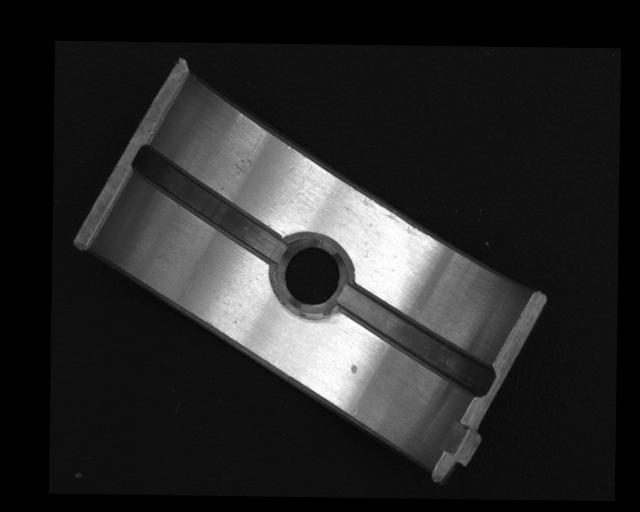bruise: (348, 364, 358, 375)
gap: (130, 146, 286, 263), (338, 283, 495, 396)
hole: (276, 236, 344, 315)
